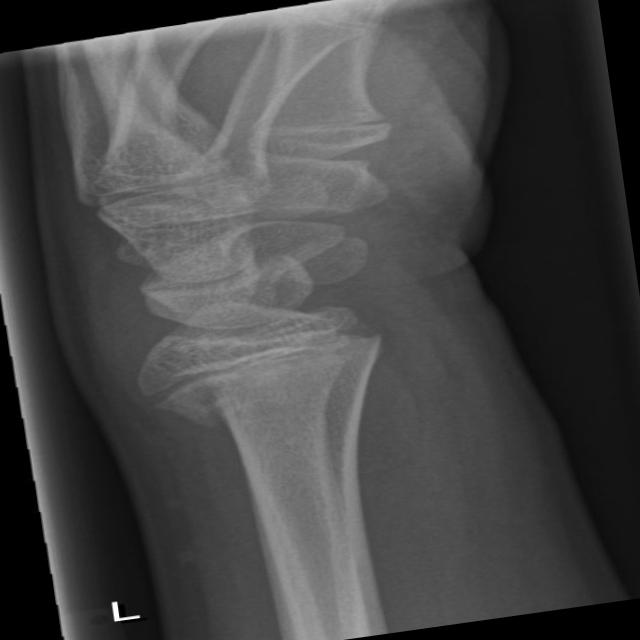fracture: (116, 296, 410, 427)
